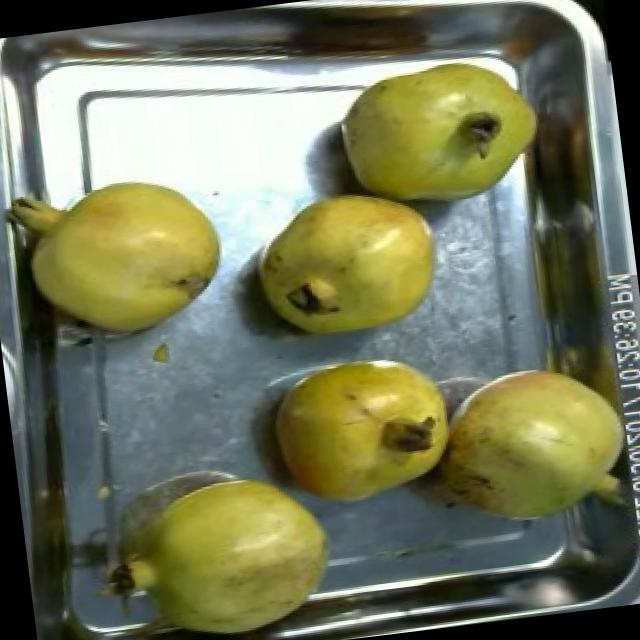fruit: (316, 36, 565, 230), (10, 156, 246, 358), (234, 168, 460, 356), (131, 451, 355, 640), (418, 347, 640, 537), (250, 338, 469, 522)
